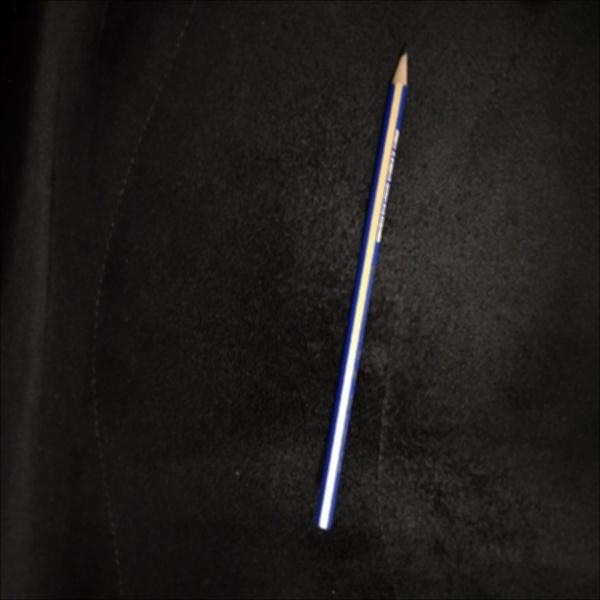pencil: (308, 48, 417, 536)
